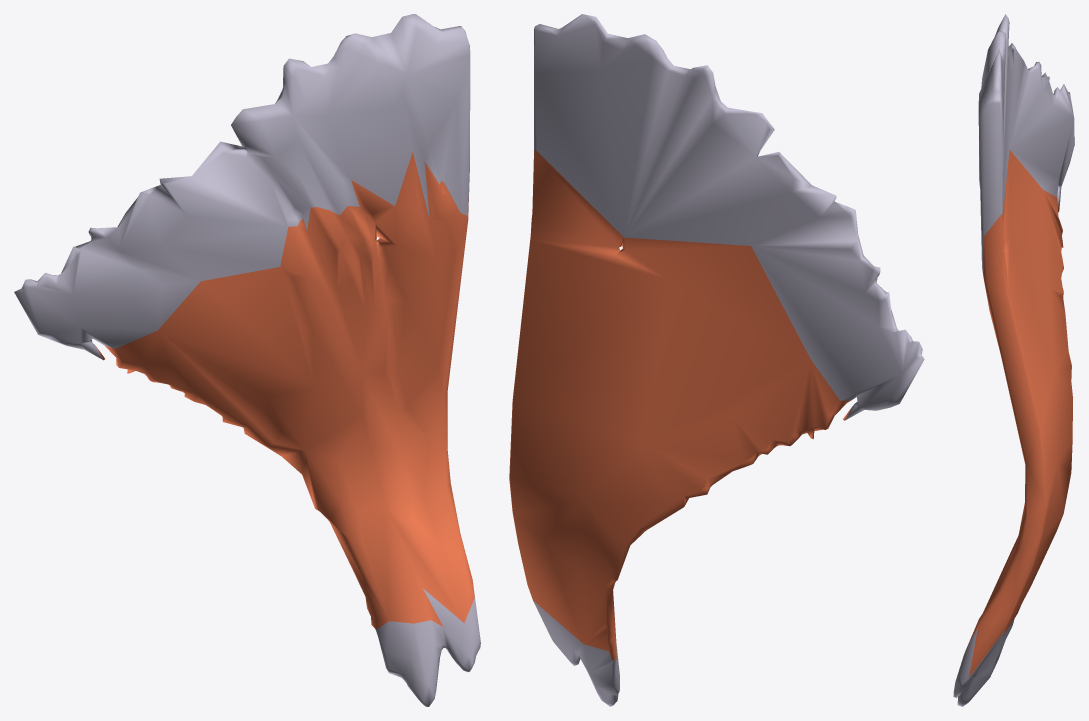
Rendered from Procerus.r_Generated_Mesh_From_X3D.286.glb.
3 renders of one model, left to right at view 1: azimuth 30°, elevation 25°; view 2: azimuth 150°, elevation 25°; view 3: azimuth 270°, elevation 25°, orthographic. The views are drawn at different scales.
Visible parts, largest first — view 1: Procerus.r_Generated_Mesh_From_X3D.286; view 2: Procerus.r_Generated_Mesh_From_X3D.286; view 3: Procerus.r_Generated_Mesh_From_X3D.286.
Part boxes in pixels (left/top/right/bottom): Procerus.r_Generated_Mesh_From_X3D.286: left=14, top=14, right=480, bottom=706; Procerus.r_Generated_Mesh_From_X3D.286: left=509, top=14, right=924, bottom=706; Procerus.r_Generated_Mesh_From_X3D.286: left=953, top=14, right=1074, bottom=706.
Bounding box in the file's own units: 0.0232 × 0.0365 × 0.00612.
